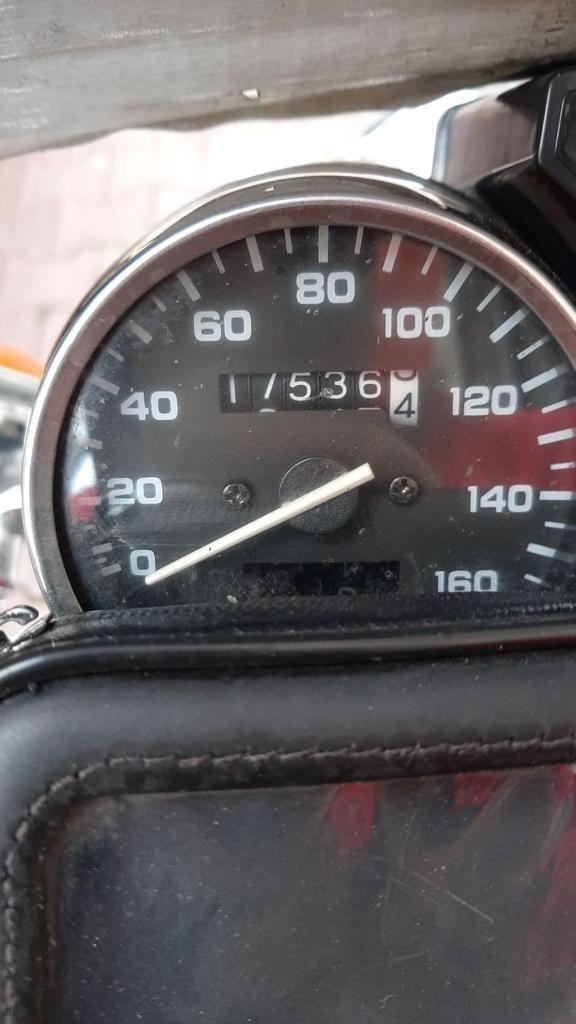1: (225, 371, 239, 405)
3: (322, 370, 348, 400)
4: (392, 390, 418, 420)
5: (287, 370, 313, 402)
6: (357, 369, 382, 400)
7: (257, 369, 277, 400)
odometer: (216, 365, 424, 430)
